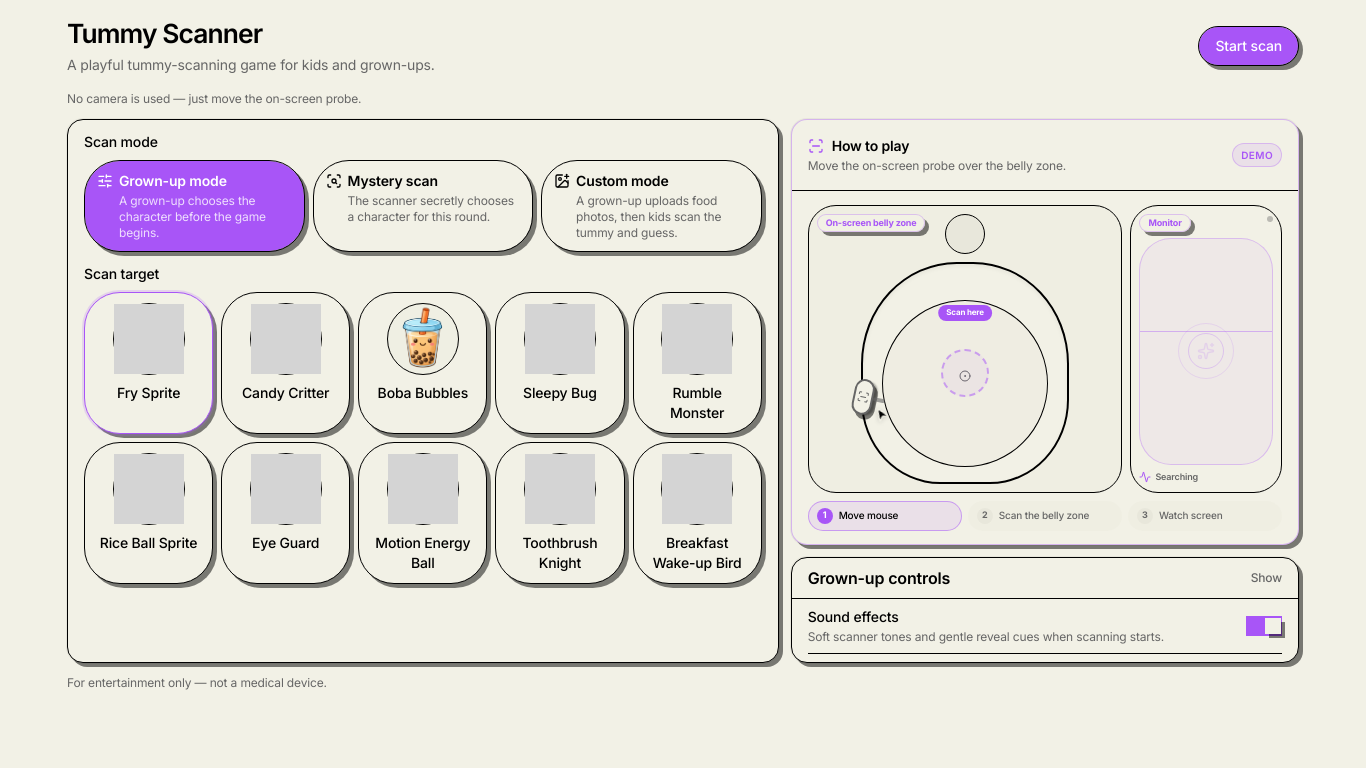
Test: DuduScannerConfigShell › blocks start in custom mode until a picture is uploaded
What coordinates should you click on to do the following:
click the button "Custom mode"
I would click on:
 (651, 206)
Its box is [541,160,762,252].
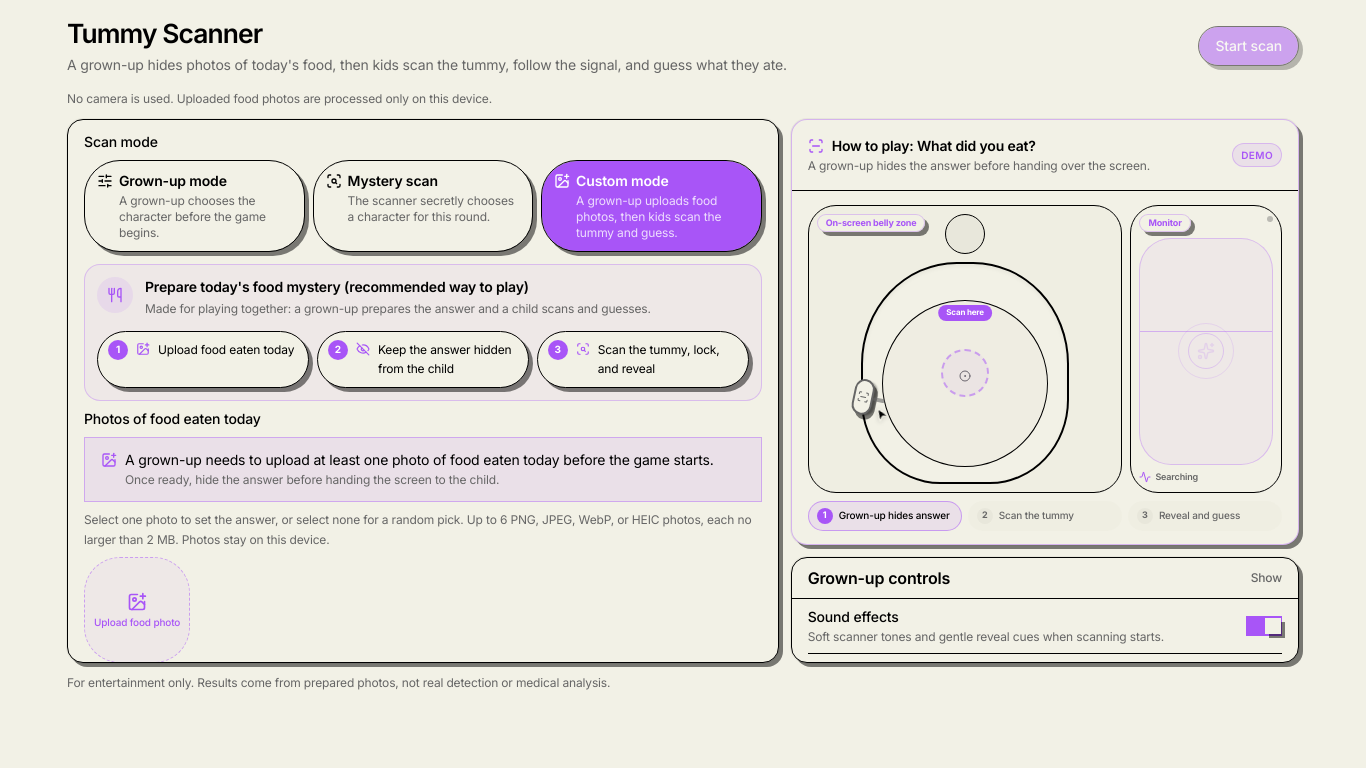
Result: the button "Start scan" is disabled at [1198,26,1299,66]
Result: the message with test id "dudu-scanner-start-blocked" shows "A grown-up needs to upload at least one photo of food eaten today" at [125,451,714,468]
Result: the element with test id "dudu-scanner-custom-library" is shown at [84,264,762,662]
